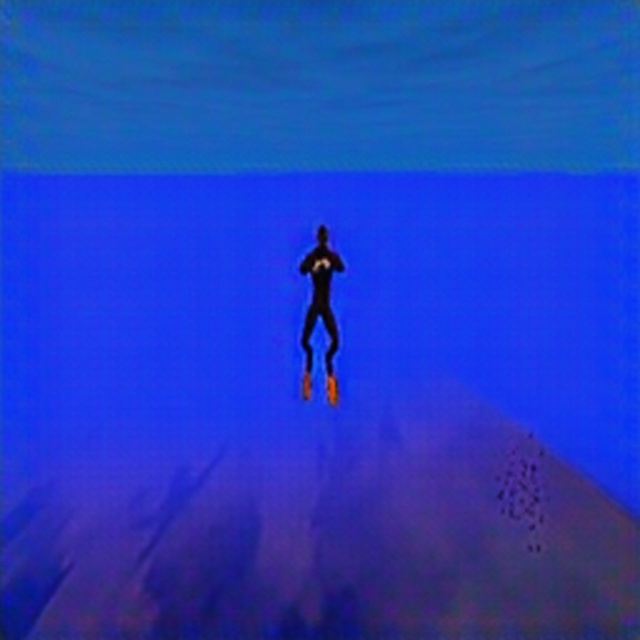diver: (296, 221, 347, 407)
